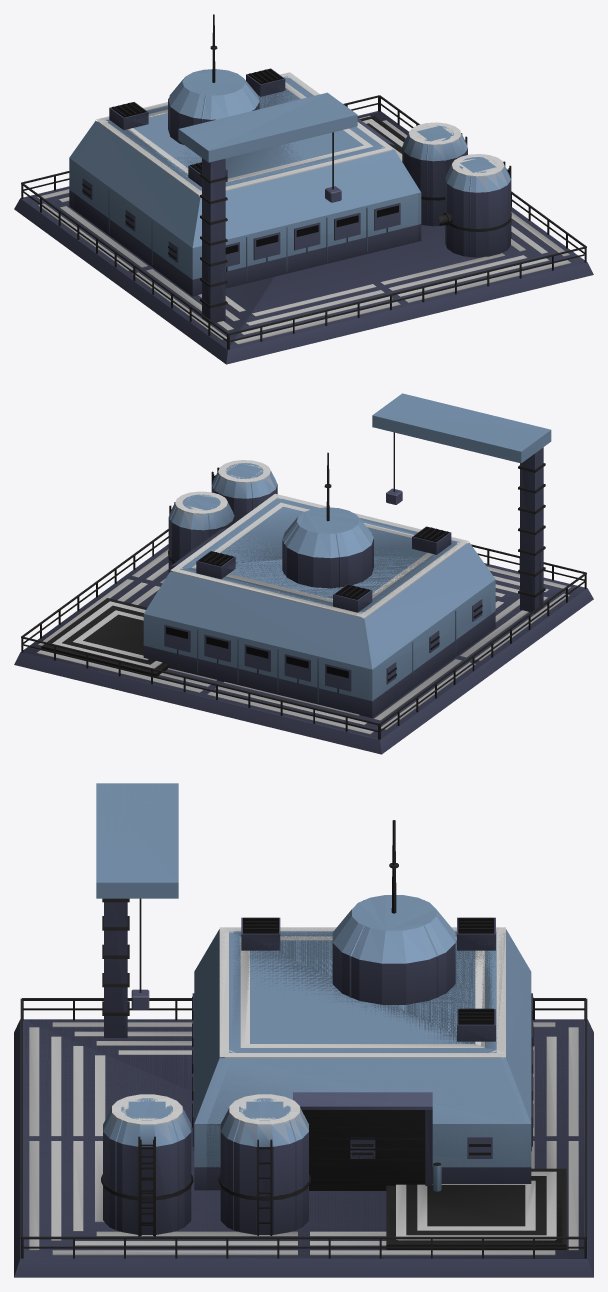
The model's file is veyran_construction_center.glb.
3 views of the same model, one above another, from view 1: azimuth 30°, elevation 25°; view 2: azimuth 150°, elevation 25°; view 3: azimuth 270°, elevation 25° (orthographic). The views are drawn at different scales.
Parts seen in each view (by area): view 1: body (×3); view 2: body (×3); view 3: body (×3).
Part boxes in pixels (x1,y1,x2,y2): body (×3): [14, 14, 593, 364]; body (×3): [14, 393, 593, 754]; body (×3): [14, 783, 593, 1277].
Size of the model in its own units: 14.8 by 8.35 by 14.8.
